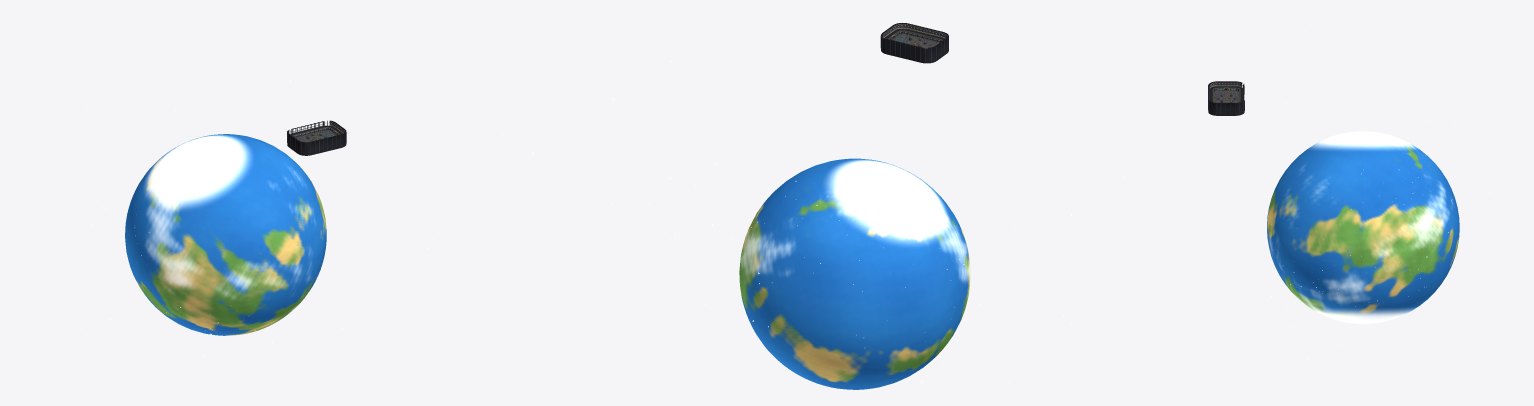
File: arena_station.glb
3 views of the same model, side by side, from view 1: azimuth 30°, elevation 25°; view 2: azimuth 150°, elevation 25°; view 3: azimuth 270°, elevation 25° (orthographic). The views are drawn at different scales.
Parts seen in each view (by area): view 1: Space, Hull; view 2: Space, Hull, Gallery; view 3: Space, Hull, Gallery, Ground.
Part boxes in pixels (x1,y1,x2,y2): Space: (14,14,533,391); Hull: (287,120,346,155); Space: (572,14,1179,390); Hull: (880,35,948,63); Gallery: (881,23,948,48); Space: (1238,14,1519,378); Hull: (1208,84,1244,115); Gallery: (1208,81,1243,103); Ground: (1214,90,1239,102).
Bounding box in the file's own units: 712 × 361 × 395.
Materials: 12 (7 with a texture image).
